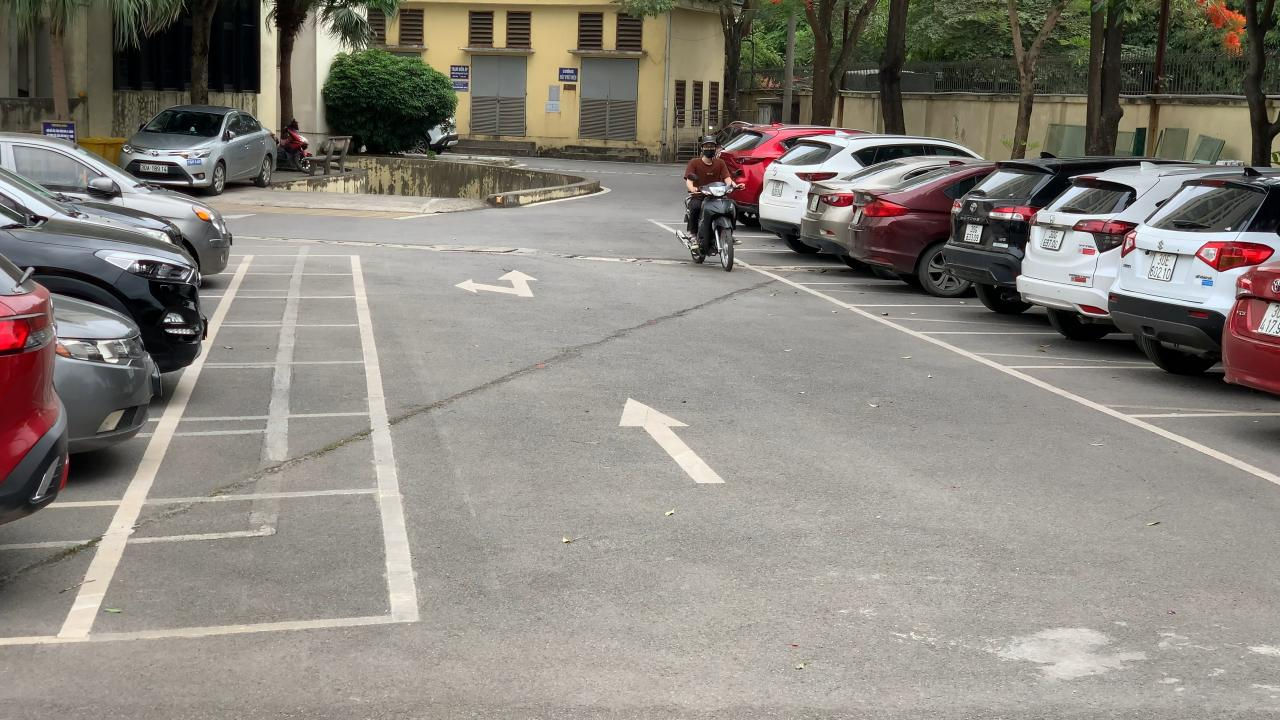helmet: (700, 136, 717, 147)
motorcyclist: (676, 136, 746, 272)
